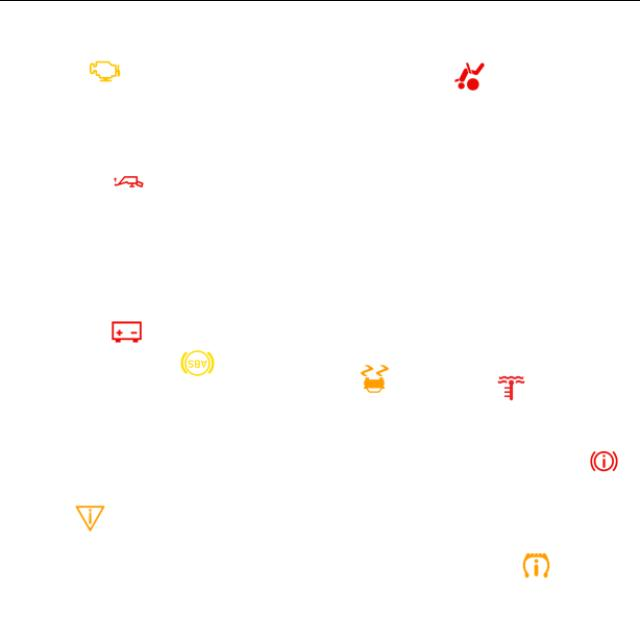Anti Lock Braking System: (180, 344, 216, 380)
Braking System Issue: (586, 442, 622, 478)
Charging System Issue: (108, 313, 144, 349)
Check Engine: (87, 52, 123, 88)
Electronic Stability Problem -ESP-: (357, 360, 392, 396)
Engine Overheating Warning Light: (494, 369, 530, 405)
Low Engine Oil Warning Light: (110, 163, 146, 199)
Low Tire Pressure Warning Light: (518, 546, 554, 582)
Master warning light: (72, 499, 108, 536)
SRS-Airbag: (452, 58, 488, 94)
